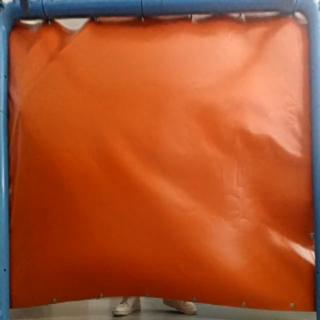Hit-hRxx: (14, 98, 26, 117)
